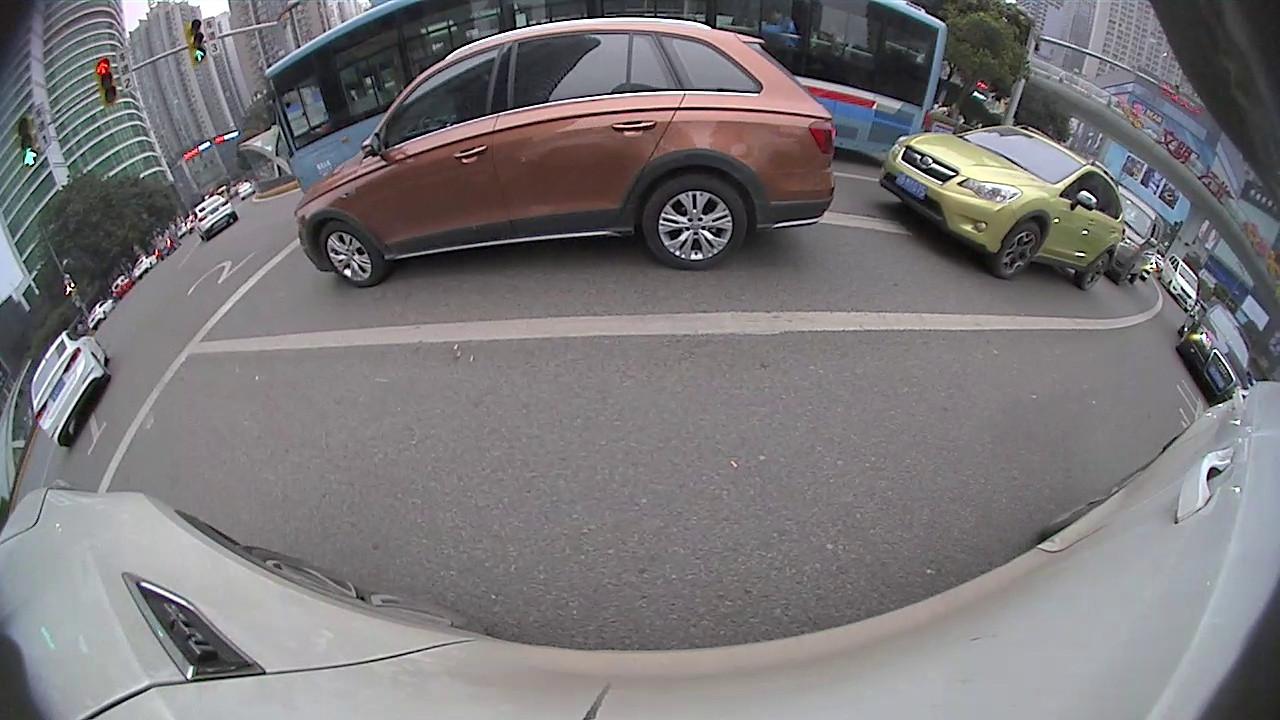bus: (262, 3, 950, 197)
car: (294, 14, 840, 289), (877, 123, 1126, 293), (29, 328, 113, 449), (1174, 297, 1253, 407), (1106, 178, 1166, 287), (1158, 253, 1201, 316), (190, 191, 241, 243)
front: (316, 217, 389, 288), (991, 215, 1047, 282)
rear: (638, 172, 751, 274), (1075, 247, 1114, 295)
